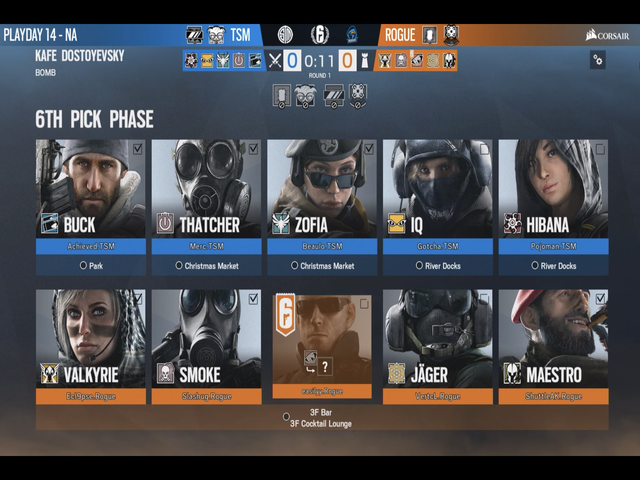0_blue: (283, 49, 302, 71)
